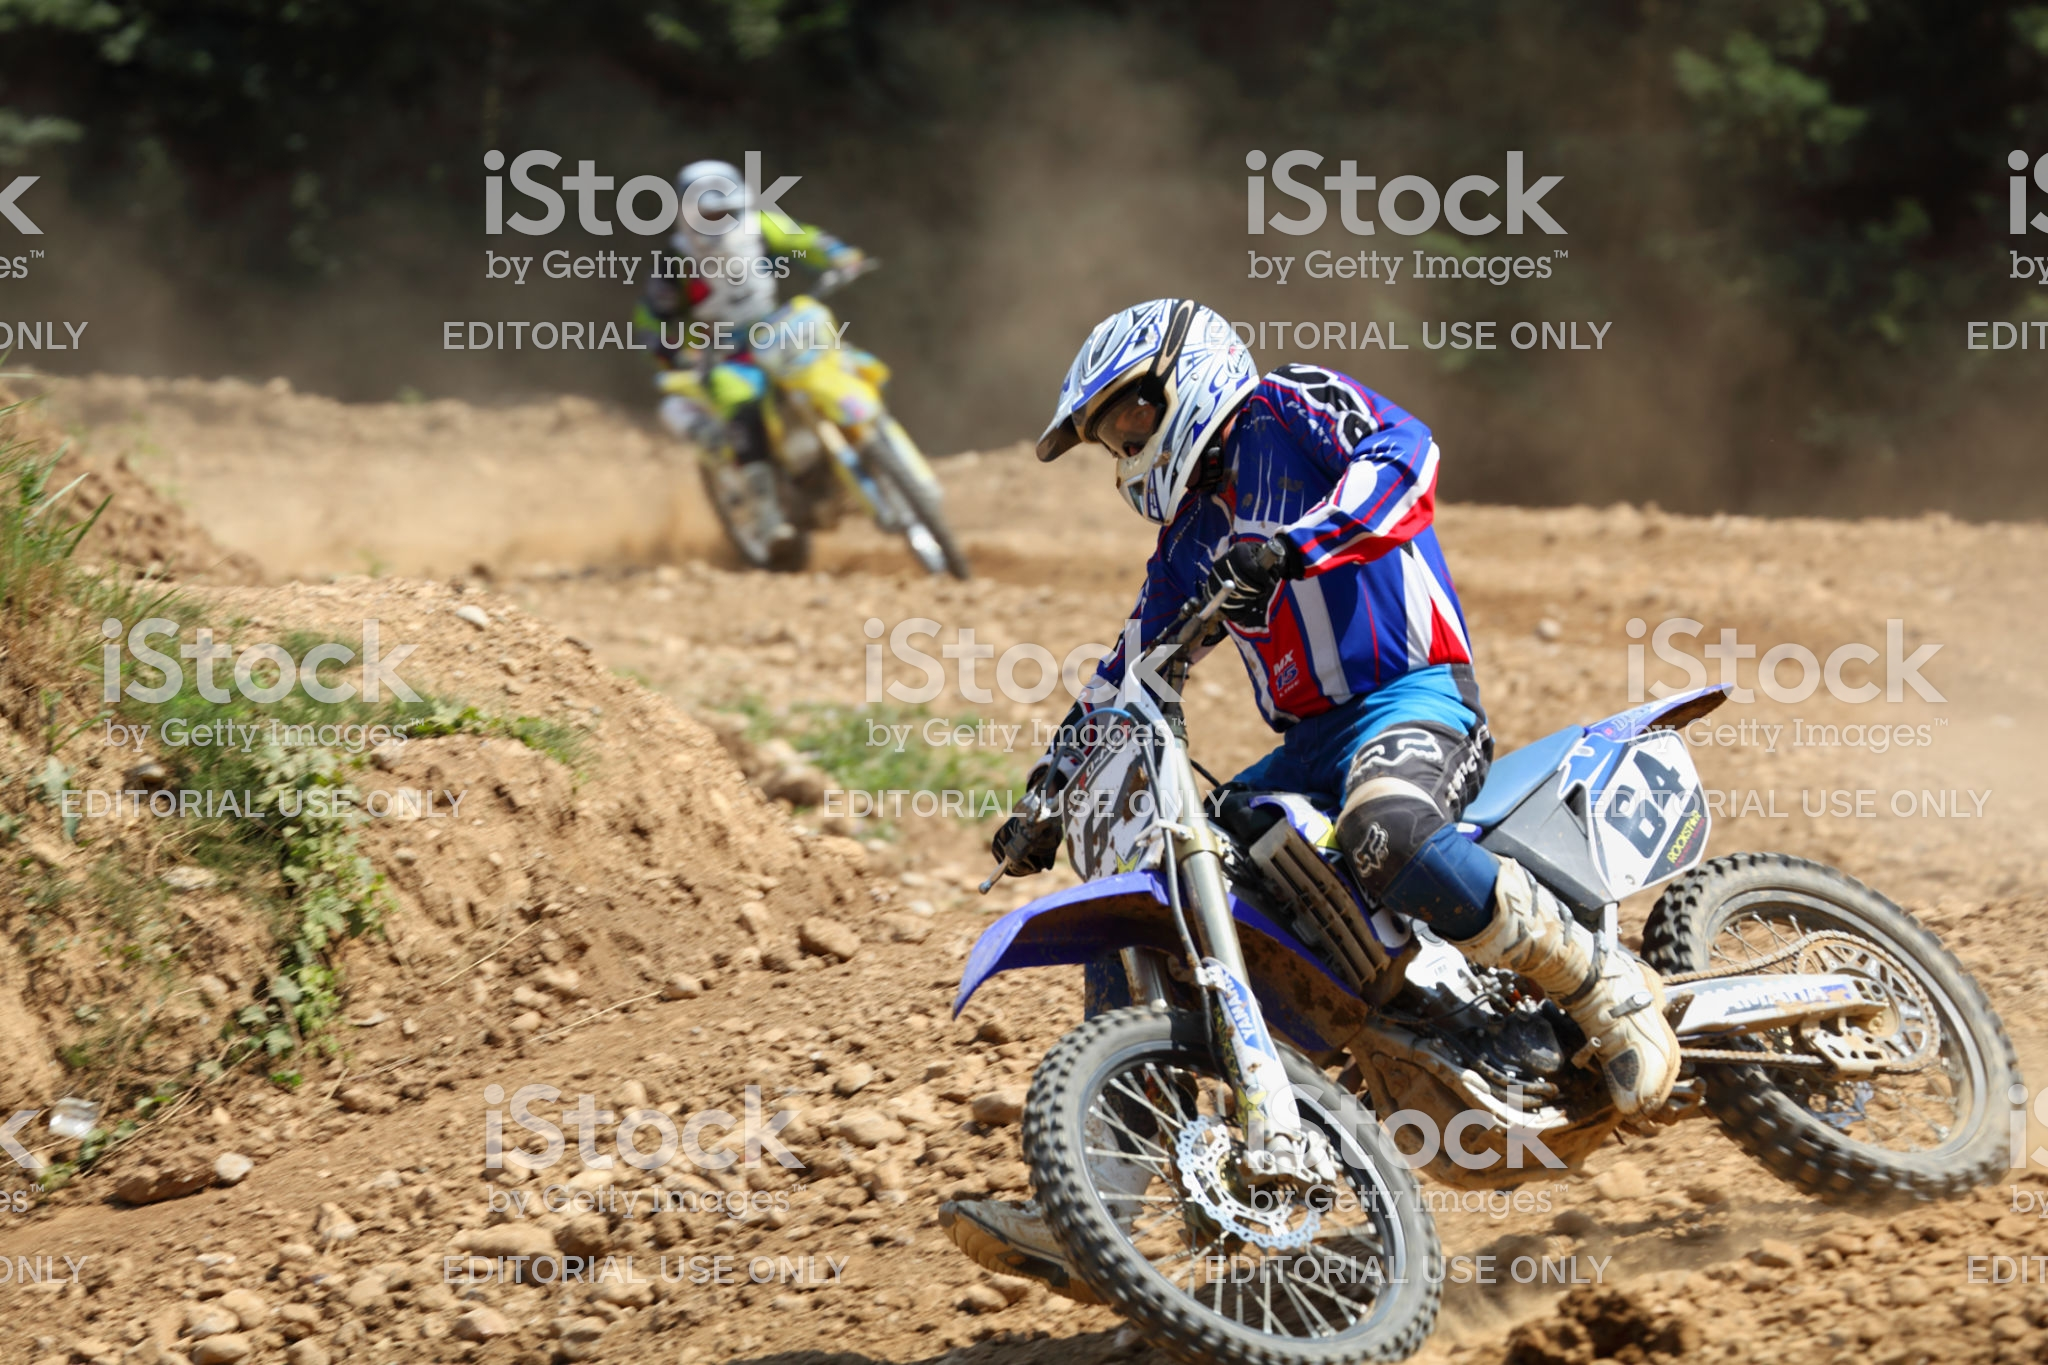helmet: (1058, 280, 1252, 486)
